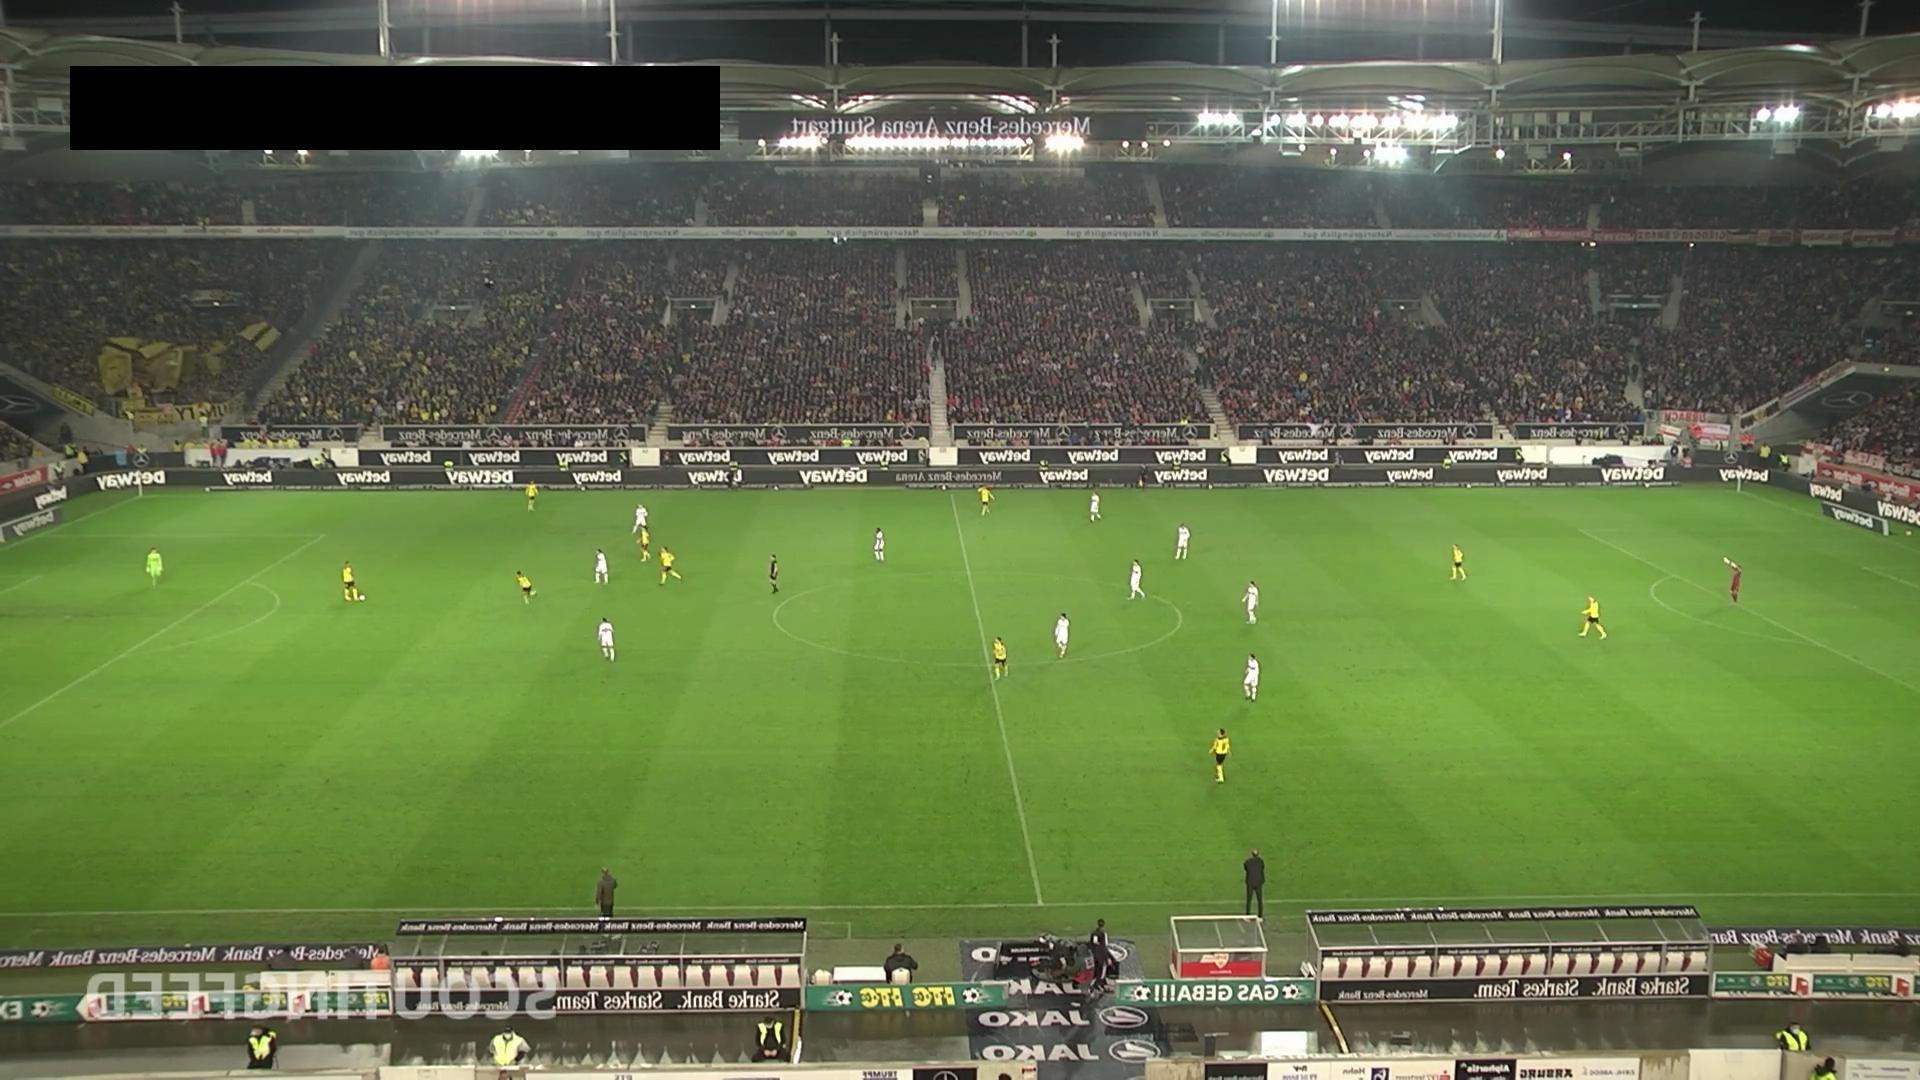ball: (358, 592, 366, 603)
goalkeeper: (1724, 556, 1743, 604), (145, 546, 163, 589)
player: (1577, 593, 1607, 639), (1209, 728, 1230, 783), (515, 569, 542, 607), (658, 545, 682, 586), (1126, 557, 1146, 601), (1243, 652, 1260, 702), (1053, 612, 1071, 659), (598, 616, 616, 662), (341, 560, 361, 601), (1242, 580, 1259, 624), (630, 502, 650, 538), (992, 635, 1008, 679), (1449, 542, 1467, 581), (1174, 523, 1191, 560), (635, 525, 651, 563), (594, 548, 609, 584), (977, 485, 994, 516), (872, 526, 885, 562), (525, 479, 538, 512), (1088, 491, 1101, 522)
referee: (768, 553, 781, 596), (1136, 462, 1149, 491)
